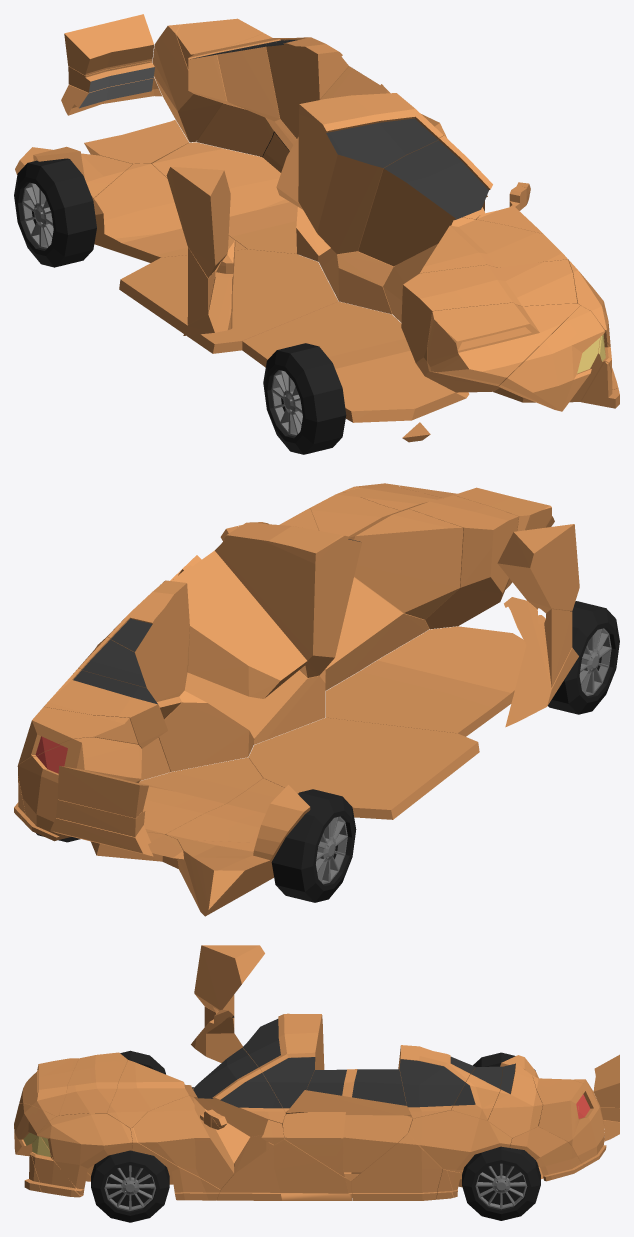
The model's file is shattered_car.fbx.
The picture shows the model from 3 angles, top to bottom: view 1: azimuth 30°, elevation 25°; view 2: azimuth 150°, elevation 25°; view 3: azimuth 270°, elevation 25°; orthographic projection. The views are drawn at different scales.
Visible parts, largest first — view 1: SportsCar_cell.022, SportsCar_cell.068, SportsCar_cell.041, SportsCar_cell.048, SportsCar_cell, SportsCar_cell.042, SportsCar_cell.031, SportsCar_FrontRightWheel, SportsCar_BackWheels, SportsCar_cell.036, SportsCar_cell.050, SportsCar_cell.017 (+22 smaller); view 2: SportsCar_cell.068, SportsCar_cell.041, SportsCar_cell.022, SportsCar_cell.017, SportsCar_cell.013, SportsCar_cell, SportsCar_cell.035, SportsCar_BackWheels, SportsCar_cell.018, SportsCar_cell.031, SportsCar_cell.047, SportsCar_cell.071 (+16 smaller); view 3: SportsCar_cell.002, SportsCar_cell.011, SportsCar_cell.003, SportsCar_cell.022, SportsCar_BackWheels, SportsCar_cell.048, SportsCar_FrontLeftWheel, SportsCar_cell.008, SportsCar_cell.025, SportsCar_cell.018, SportsCar_cell.012, SportsCar_cell.071 (+18 smaller).
Boxes of the visible parts, x1,y1,x2,y2 form: SportsCar_cell.022: (298,93,443,254); SportsCar_cell.068: (242,301,469,422); SportsCar_cell.041: (119,249,338,353); SportsCar_cell.048: (358,135,492,266); SportsCar_cell: (401,259,577,392); SportsCar_cell.042: (427,302,579,385); SportsCar_cell.031: (152,132,297,253); SportsCar_FrontRightWheel: (263,343,346,454); SportsCar_BackWheels: (14,131,289,267); SportsCar_cell.036: (91,163,246,262); SportsCar_cell.050: (498,305,604,411); SportsCar_cell.017: (420,217,567,273); SportsCar_cell.068: (326,626,526,736); SportsCar_cell.041: (248,717,479,819); SportsCar_cell.022: (215,522,361,677); SportsCar_cell.017: (310,492,463,619); SportsCar_cell.013: (172,550,307,698); SportsCar_cell: (343,487,518,629); SportsCar_cell.035: (177,785,310,916); SportsCar_BackWheels: (36,789,356,902); SportsCar_cell.018: (103,580,189,701); SportsCar_cell.031: (90,757,262,861); SportsCar_cell.047: (17,737,141,841); SportsCar_cell.071: (497,524,579,612); SportsCar_cell.002: (217,1135,352,1200); SportsCar_cell.011: (282,1112,412,1177); SportsCar_cell.003: (133,1095,234,1189); SportsCar_cell.022: (243,1013,324,1114); SportsCar_BackWheels: (462,1052,540,1220); SportsCar_cell.048: (189,1047,285,1136); SportsCar_FrontLeftWheel: (91,1150,169,1222); SportsCar_cell.008: (37,1113,132,1195); SportsCar_cell.025: (351,1133,442,1200); SportsCar_cell.018: (398,1045,475,1118); SportsCar_cell.012: (408,1110,511,1172); SportsCar_cell.071: (194,945,264,1012).
Bounding box in the file's own units: 399 × 185 × 121.
